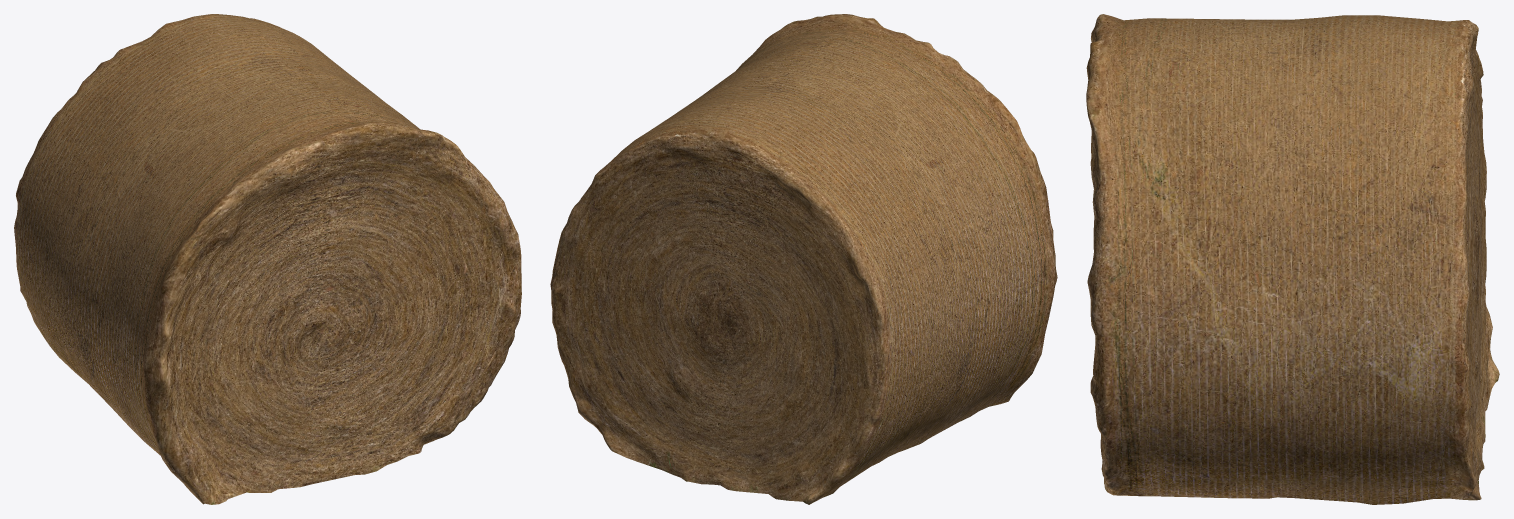
3 views of the same model, side by side, from view 1: azimuth 30°, elevation 25°; view 2: azimuth 150°, elevation 25°; view 3: azimuth 270°, elevation 25° (orthographic). The views are drawn at different scales.
Parts seen in each view (by area): view 1: rlCay_LOD0_TIER2_000; view 2: rlCay_LOD0_TIER2_000; view 3: rlCay_LOD0_TIER2_000.
Part boxes in pixels (x1,y1,x2,y2): rlCay_LOD0_TIER2_000: [14, 14, 521, 504]; rlCay_LOD0_TIER2_000: [550, 14, 1057, 504]; rlCay_LOD0_TIER2_000: [1086, 14, 1499, 504].
Size of the model in its own units: 1.6 by 1.47 by 1.32.
1 material, 1 textured.
